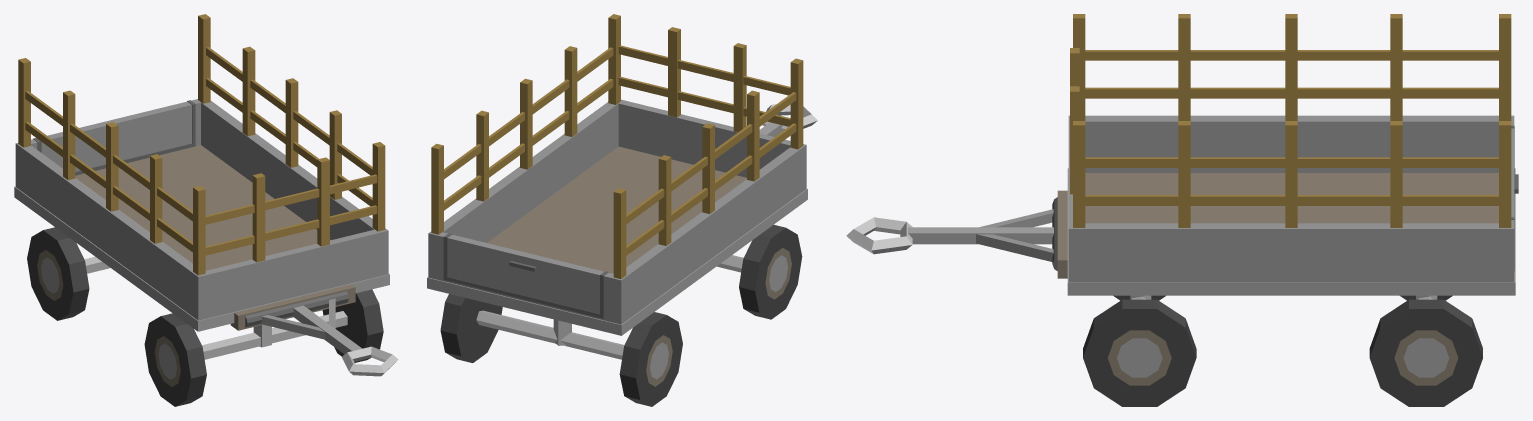
Rendered from trailer3.fbx.
The picture shows the model from 3 angles, left to right: view 1: azimuth 30°, elevation 25°; view 2: azimuth 150°, elevation 25°; view 3: azimuth 270°, elevation 25°; orthographic projection. The views are drawn at different scales.
Parts seen in each view (by area): view 1: Cube_2, Cylinder_3, Cylinder_2, Cylinder_5, Cylinder; view 2: Cube_2, Cylinder_2, Cylinder_3, Cylinder_1, Cylinder_5; view 3: Cube_2, Cylinder, Cylinder_1, Cylinder_5.
Boxes of the visible parts, bbox=[...] form: Cube_2: bbox=[14, 14, 389, 359]; Cylinder_3: bbox=[144, 313, 206, 406]; Cylinder_2: bbox=[27, 227, 89, 320]; Cylinder_5: bbox=[245, 291, 398, 376]; Cylinder: bbox=[322, 289, 383, 362]; Cube_2: bbox=[427, 14, 807, 359]; Cylinder_2: bbox=[619, 312, 682, 406]; Cylinder_3: bbox=[739, 225, 802, 319]; Cylinder_1: bbox=[440, 294, 502, 362]; Cylinder_5: bbox=[759, 104, 817, 136]; Cube_2: bbox=[1057, 14, 1518, 299]; Cylinder: bbox=[1083, 299, 1196, 406]; Cylinder_1: bbox=[1369, 299, 1482, 406]; Cylinder_5: bbox=[846, 197, 1057, 270].
Bounding box in the file's own units: 207 × 236 × 513.
